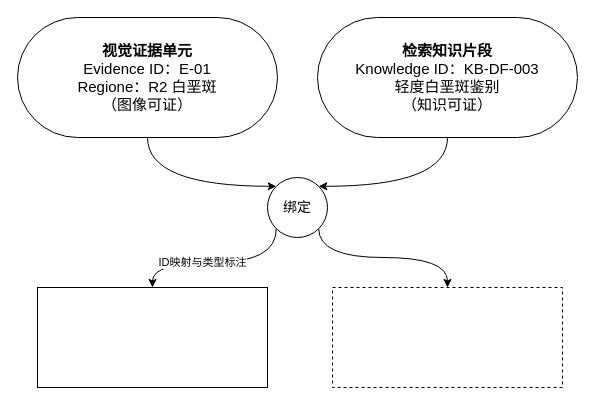
This 595x405 diagram has some shape labels left out. Each missing label, with the centre of its shape:
"联合证据链JSON visual_id：E-01 knowledge_id：KB-DF-003 type：知识可证-鉴别说明" belongs at [152,337].
"防混淆：检索知识不得冒充图像证据" belongs at [447,337].
